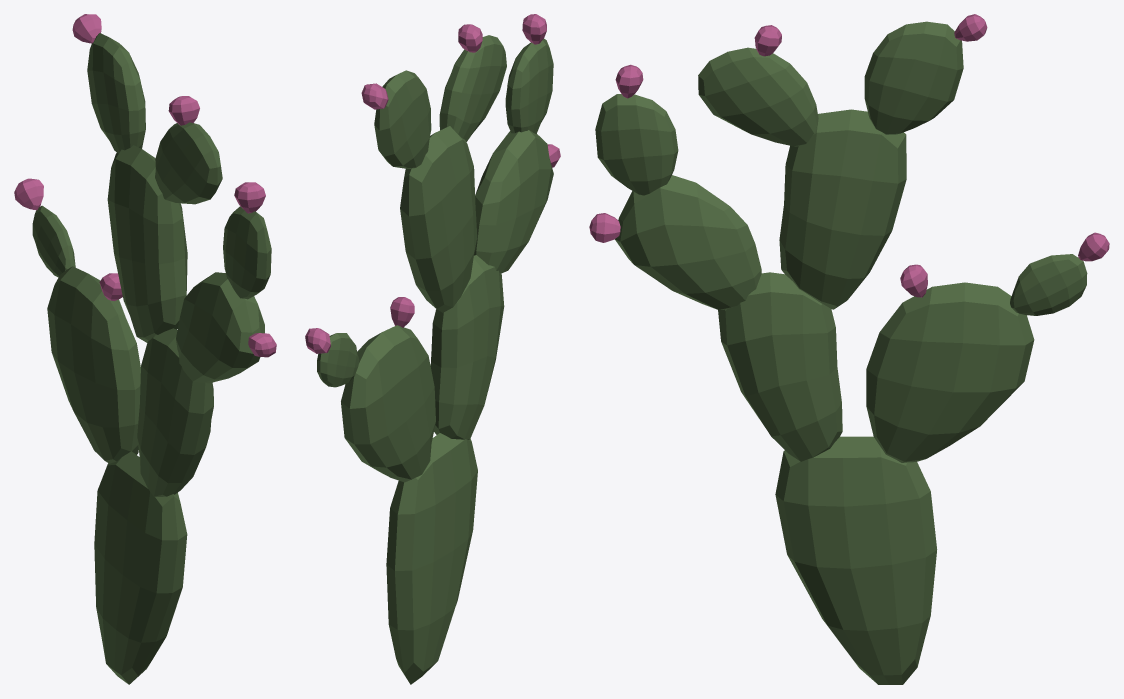
File: cactusflowers_4.glb
3 renders of one model, left to right at view 1: azimuth 30°, elevation 25°; view 2: azimuth 150°, elevation 25°; view 3: azimuth 270°, elevation 25°, orthographic. The views are drawn at different scales.
Parts seen in each view (by area): view 1: CactusFlowers_4; view 2: CactusFlowers_4; view 3: CactusFlowers_4.
Part boxes in pixels (left/top/right/bottom): CactusFlowers_4: left=14, top=14, right=276, bottom=684; CactusFlowers_4: left=305, top=14, right=560, bottom=684; CactusFlowers_4: left=589, top=14, right=1109, bottom=684.
Bounding box in the file's own units: 0.11 × 1.38 × 0.972.
